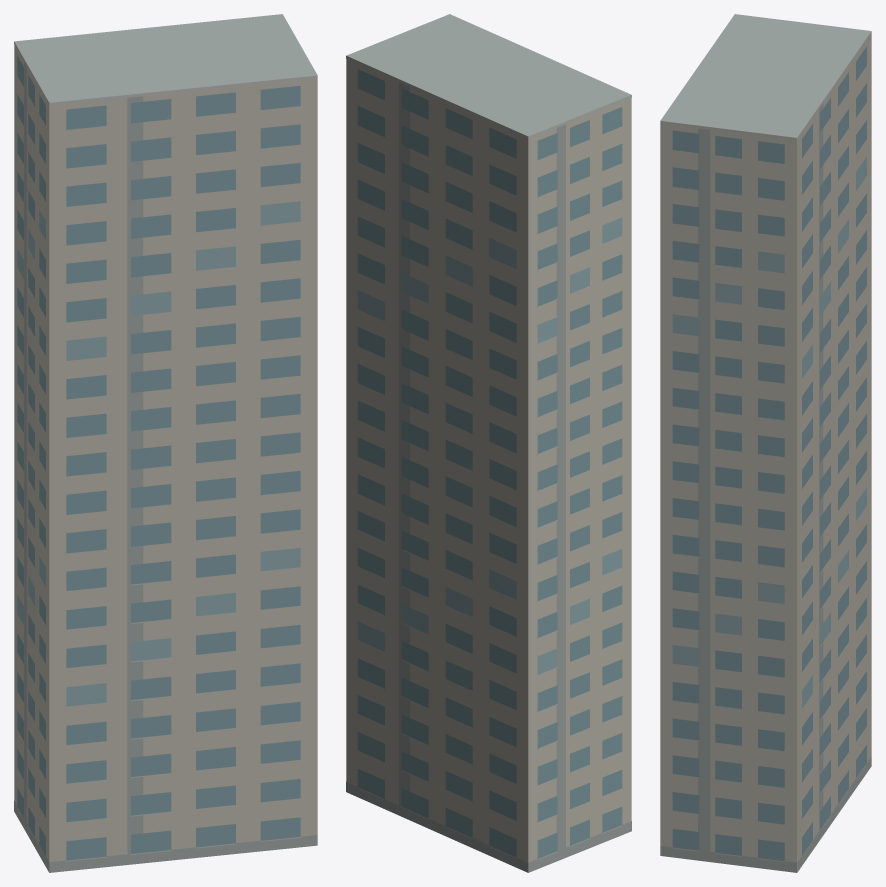
The model's file is residential-2a26ab32-1d08-4c36-bd97-9029bfea0e3e.glb.
3 views of the same model, side by side, from view 1: azimuth 30°, elevation 25°; view 2: azimuth 150°, elevation 25°; view 3: azimuth 270°, elevation 25° (orthographic). The views are drawn at different scales.
Visible parts, largest first — view 1: residential-2a26ab32-1d08-4c36-bd97-9029bfea0e3e.tmp; view 2: residential-2a26ab32-1d08-4c36-bd97-9029bfea0e3e.tmp; view 3: residential-2a26ab32-1d08-4c36-bd97-9029bfea0e3e.tmp.
Part boxes in pixels (<box>): residential-2a26ab32-1d08-4c36-bd97-9029bfea0e3e.tmp: <box>14,14,317,872</box>; residential-2a26ab32-1d08-4c36-bd97-9029bfea0e3e.tmp: <box>346,14,631,872</box>; residential-2a26ab32-1d08-4c36-bd97-9029bfea0e3e.tmp: <box>660,14,871,872</box>.
Size of the model in its own units: 22.42 by 62 by 16.18.
